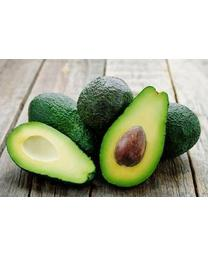avocado: (99, 86, 169, 188), (6, 122, 97, 185), (28, 92, 98, 159), (77, 75, 134, 142), (146, 102, 201, 161)
